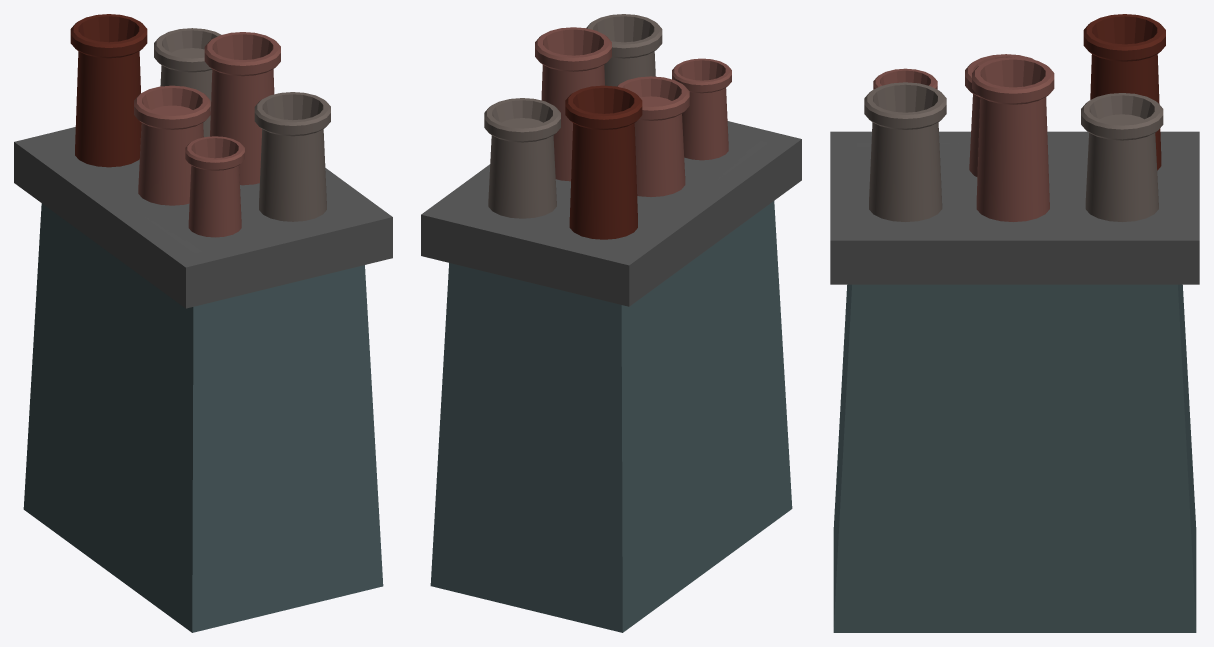
Rendered from m_cheminee_little.FBX.
The picture shows the model from 3 angles, left to right: view 1: azimuth 30°, elevation 25°; view 2: azimuth 150°, elevation 25°; view 3: azimuth 270°, elevation 25°; orthographic projection. The views are drawn at different scales.
Visible parts, largest first — view 1: cheminee_base; view 2: cheminee_base; view 3: cheminee_base.
Part boxes in pixels (<box>): cheminee_base: <box>14,14,392,632</box>; cheminee_base: <box>421,14,801,632</box>; cheminee_base: <box>830,14,1199,632</box>.
Size of the model in its own units: 17.77 by 40.35 by 25.52.
